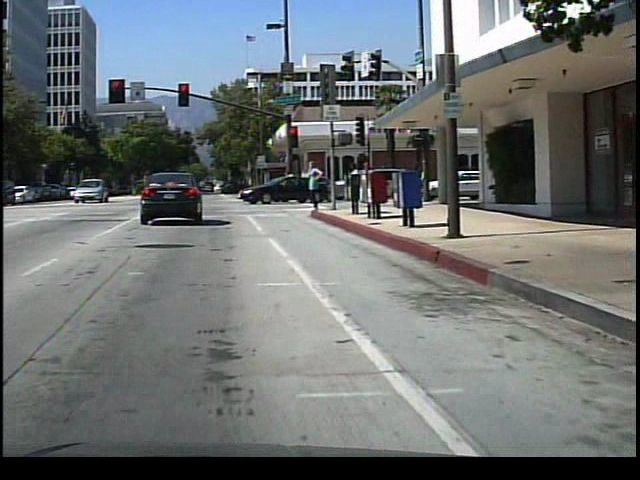person: (304, 153, 329, 215), (362, 155, 381, 207), (350, 157, 368, 205)
